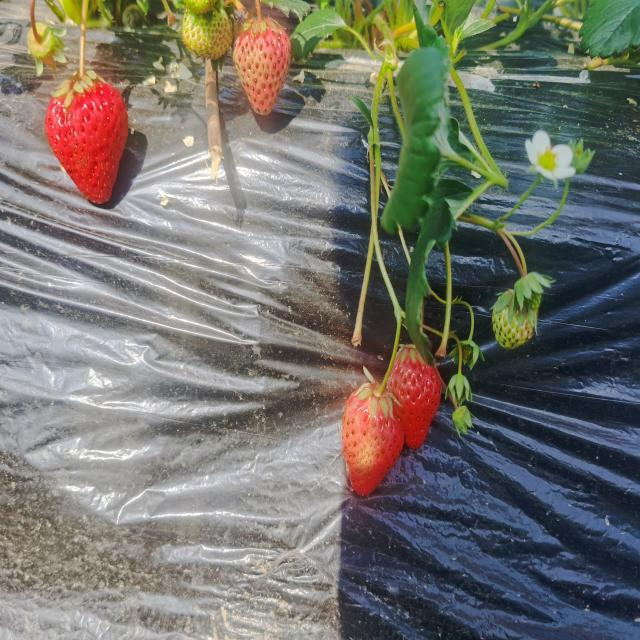stem: (376, 342, 399, 396), (80, 23, 86, 78), (255, 1, 263, 22)
strawberry: (45, 75, 128, 204), (341, 383, 404, 496), (386, 344, 442, 449), (232, 18, 291, 115)
